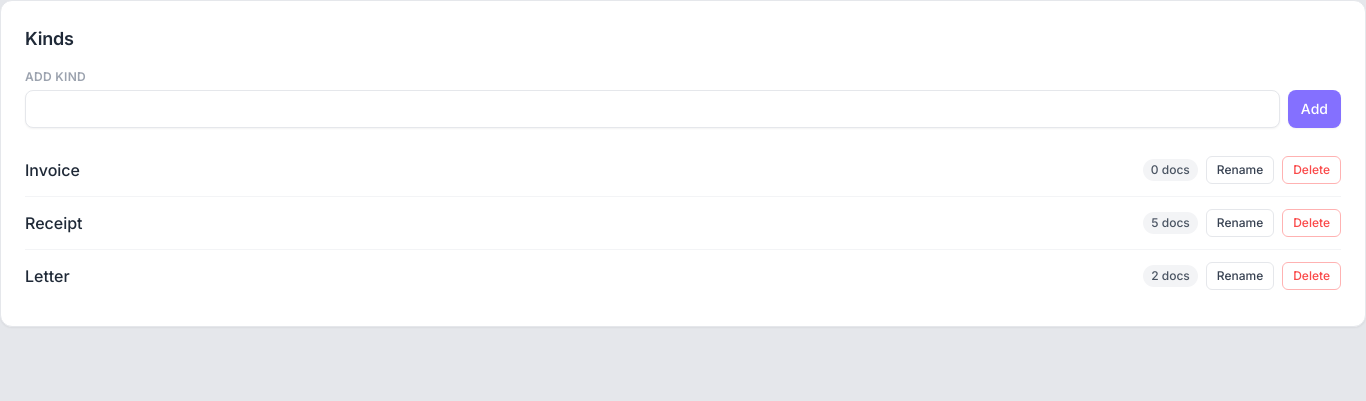
TaxonomyCrudPanel › surfaces a 409 rename as a row error (hasMerge=false) with no merge prompt
The width and height of the screenshot is (1366, 401).
Click the button with test id "kind-rename" at (1240, 170), box [1206,156,1274,184]
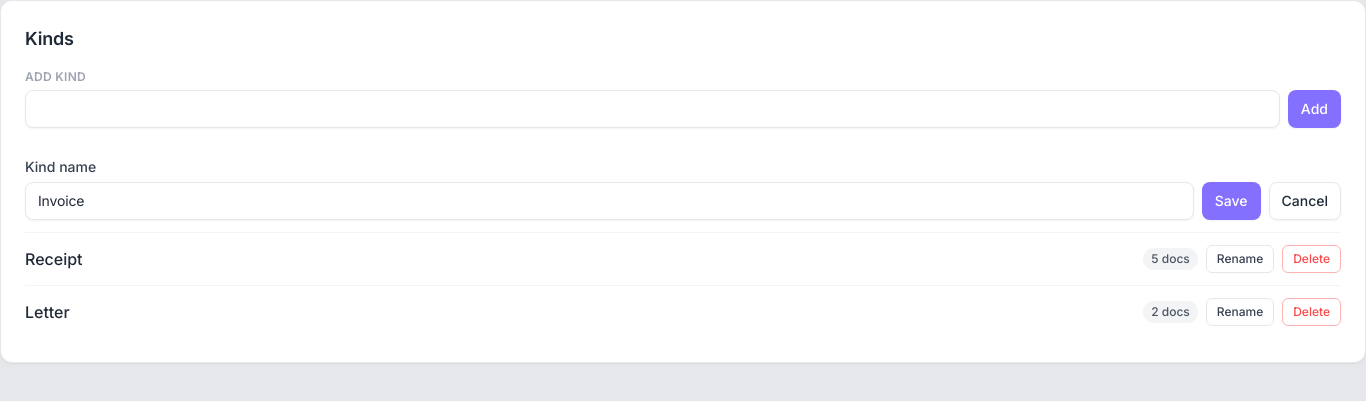
Replace the text in the field with id "kind-rename-input-invoice" with "Receipt" at (609, 201), box [25,182,1194,220]
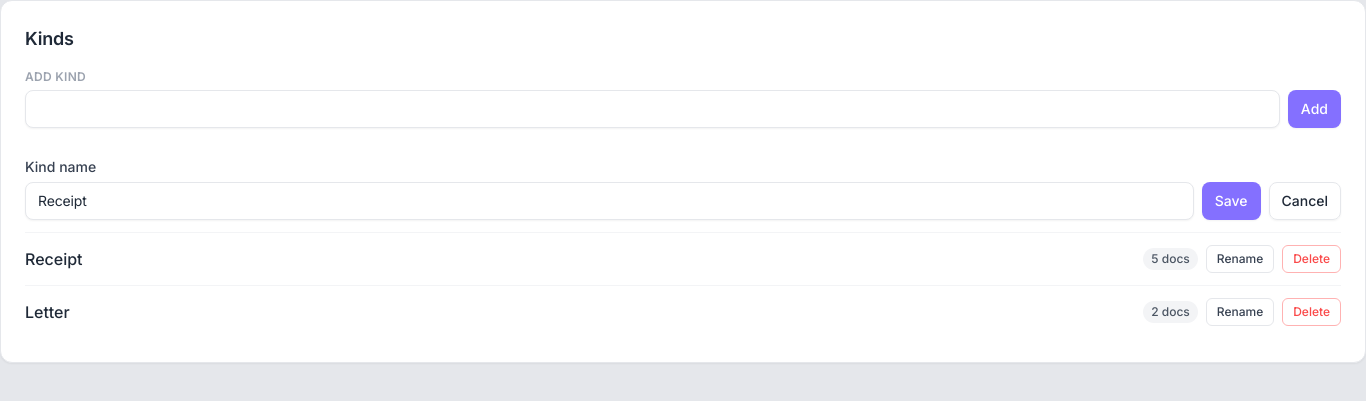
Click the button with test id "kind-rename-save" at (1231, 201), box [1202,182,1260,220]
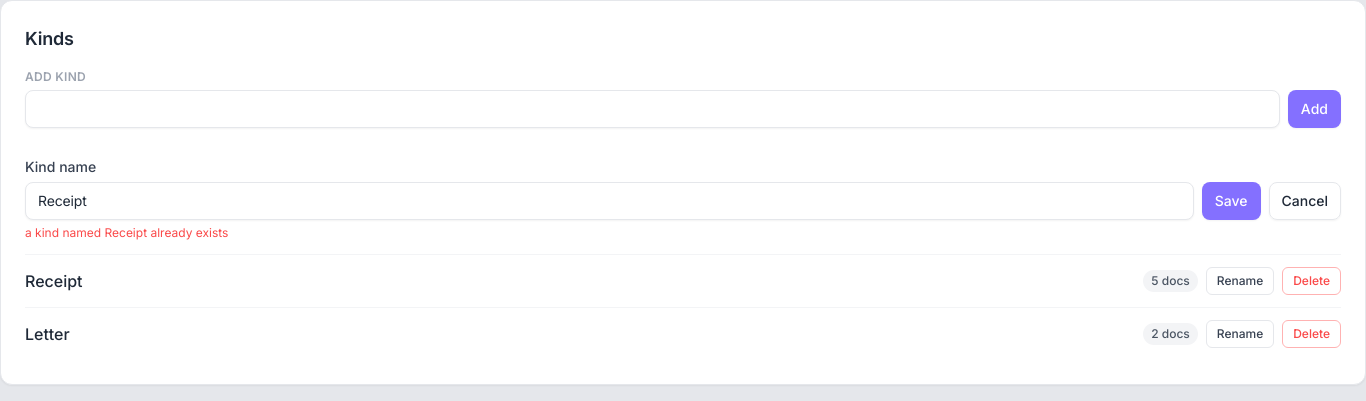
Check: the text with test id "kind-error-invoice" shows "already exists", box [25,225,228,240]
